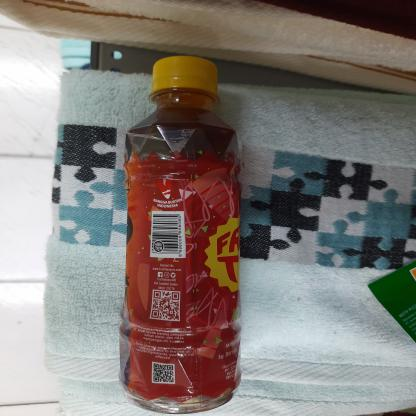bottle: (117, 48, 252, 415)
